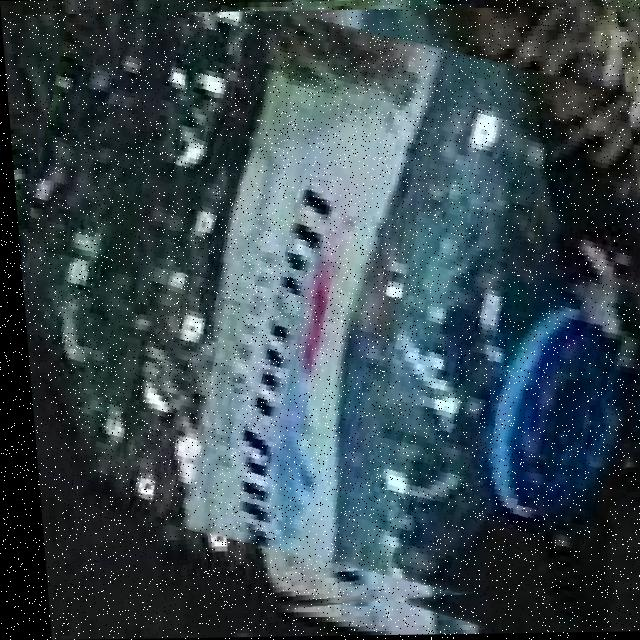litter: (1, 7, 640, 627)
